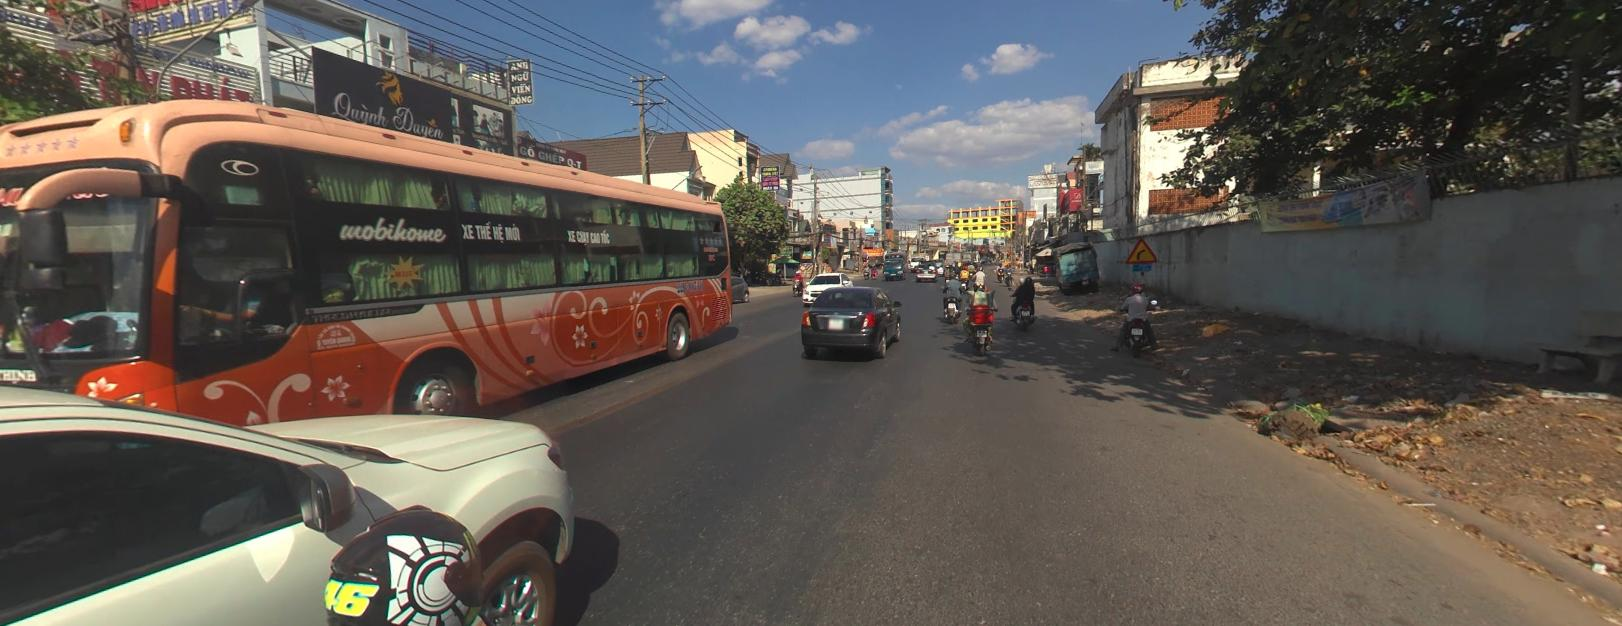Nguy hiem: (1123, 235, 1159, 264)
